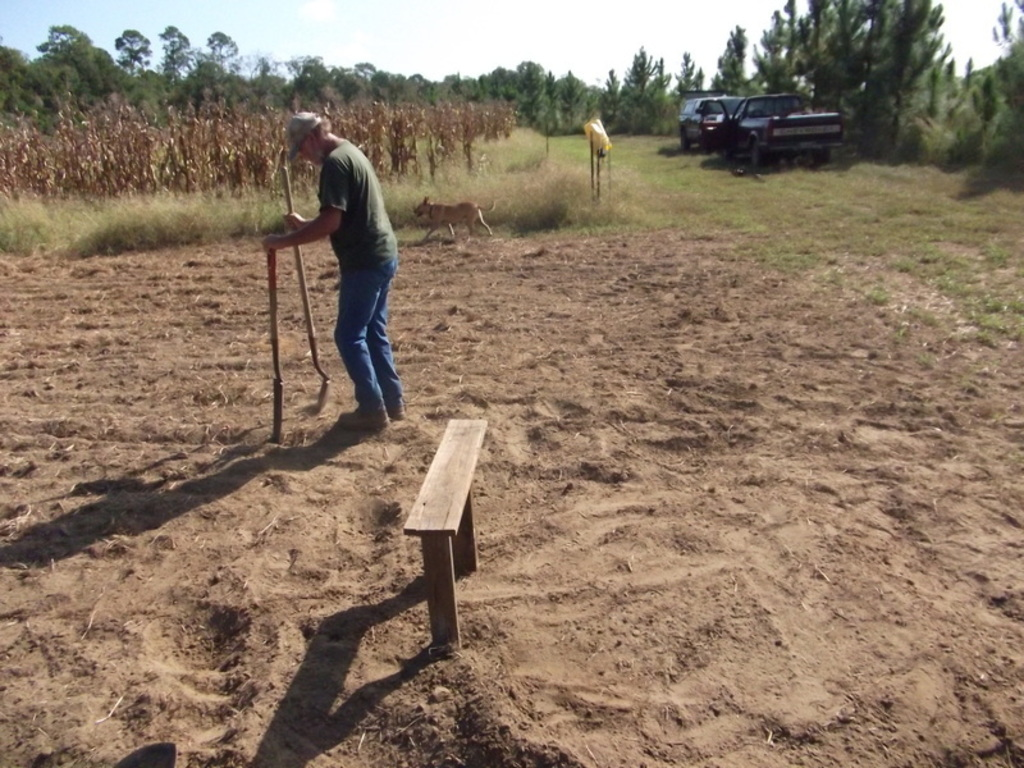Car: (678, 94, 743, 152)
